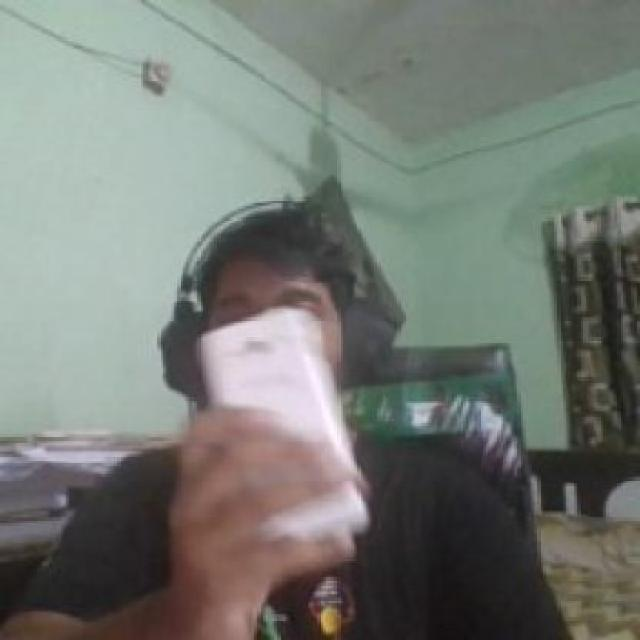Phone: (197, 303, 370, 542)
